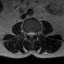CCS_normal: (30, 30, 32, 41)
LFS_normal: (34, 29, 37, 38)
LLS_normal: (32, 29, 34, 38)
RFS_normal: (25, 29, 28, 37)
RLS_normal: (28, 30, 30, 38)
